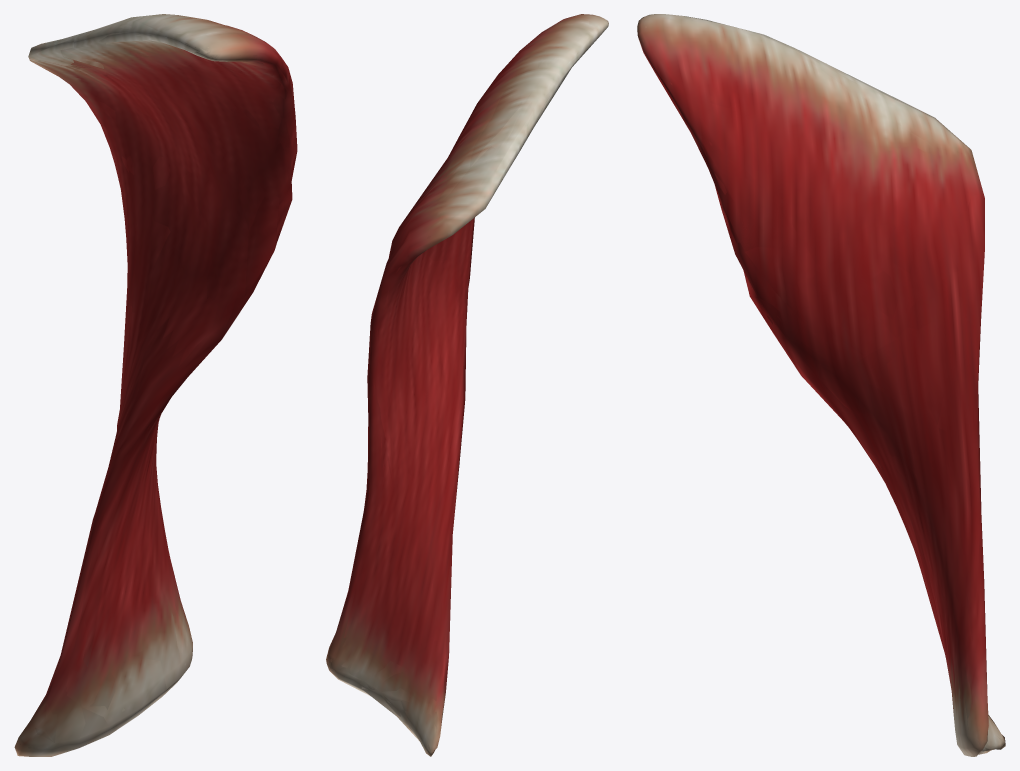
File: L Brachiocephalicus.fbx
3 renders of one model, left to right at view 1: azimuth 30°, elevation 25°; view 2: azimuth 150°, elevation 25°; view 3: azimuth 270°, elevation 25°, orthographic. The views are drawn at different scales.
Parts seen in each view (by area): view 1: L Brachiocephalicus high, L Brachiocephalicus, L Brachiocephalicus low; view 2: L Brachiocephalicus, L Brachiocephalicus low, L Brachiocephalicus high; view 3: L Brachiocephalicus, L Brachiocephalicus low, L Brachiocephalicus high.
Part boxes in pixels (x1,y1,x2,y2): L Brachiocephalicus high: (16,16,293,751); L Brachiocephalicus: (14,14,297,756); L Brachiocephalicus low: (15,14,296,748); L Brachiocephalicus: (326,14,608,756); L Brachiocephalicus low: (326,20,608,751); L Brachiocephalicus high: (329,15,607,750); L Brachiocephalicus: (637,14,1005,756); L Brachiocephalicus low: (638,16,1004,756); L Brachiocephalicus high: (639,18,1003,752).
Bounding box in the file's own units: 2.61 × 11.32 × 5.23.
